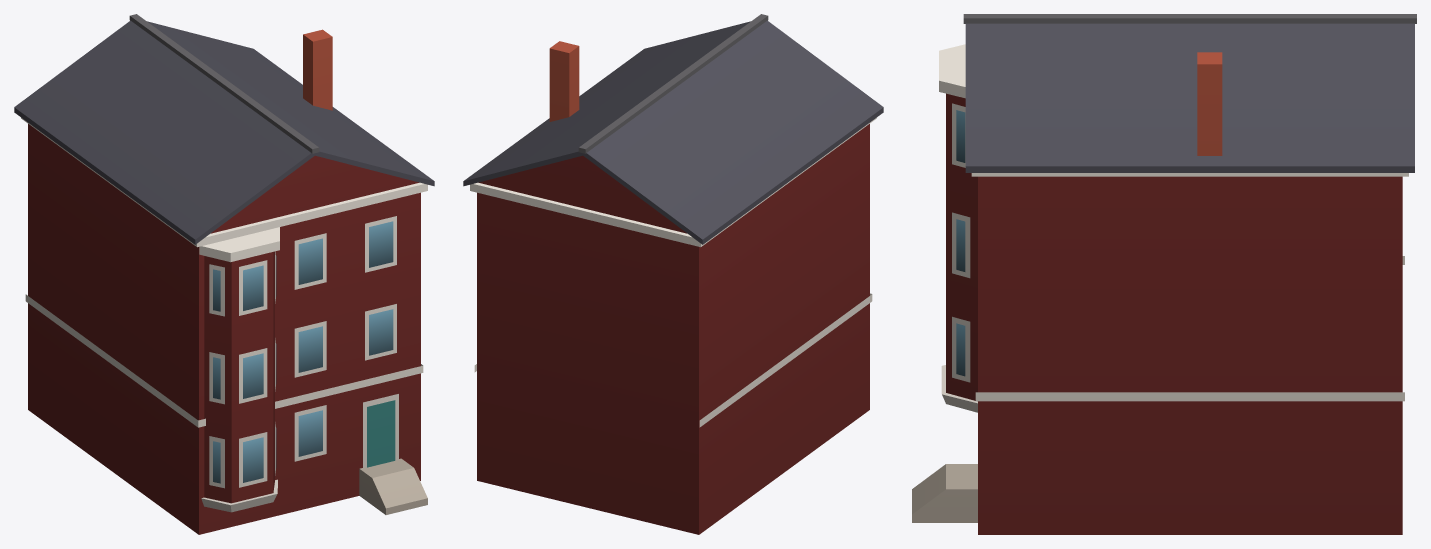
Rendered from lane_e0_far.glb.
3 renders of one model, left to right at view 1: azimuth 30°, elevation 25°; view 2: azimuth 150°, elevation 25°; view 3: azimuth 270°, elevation 25°, orthographic. The views are drawn at different scales.
Parts seen in each view (by area): view 1: lane_e0_far; view 2: lane_e0_far; view 3: lane_e0_far.
Part boxes in pixels (box(x1,y1,x2,y2)): lane_e0_far: box(14, 14, 434, 534); lane_e0_far: box(463, 14, 883, 534); lane_e0_far: box(912, 14, 1416, 534).
Bounding box in the file's own units: 9.7 × 14.68 × 14.26.
Materials: 1 (1 with a texture image).
